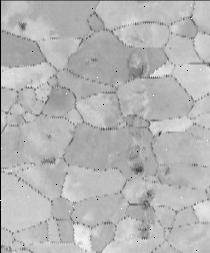good_void: (122, 54, 154, 80), (138, 187, 156, 213), (137, 217, 153, 241), (126, 145, 144, 163), (127, 161, 147, 176), (39, 156, 56, 168), (15, 21, 29, 32), (41, 131, 53, 142), (87, 55, 100, 63), (162, 165, 171, 176), (157, 128, 163, 138)
